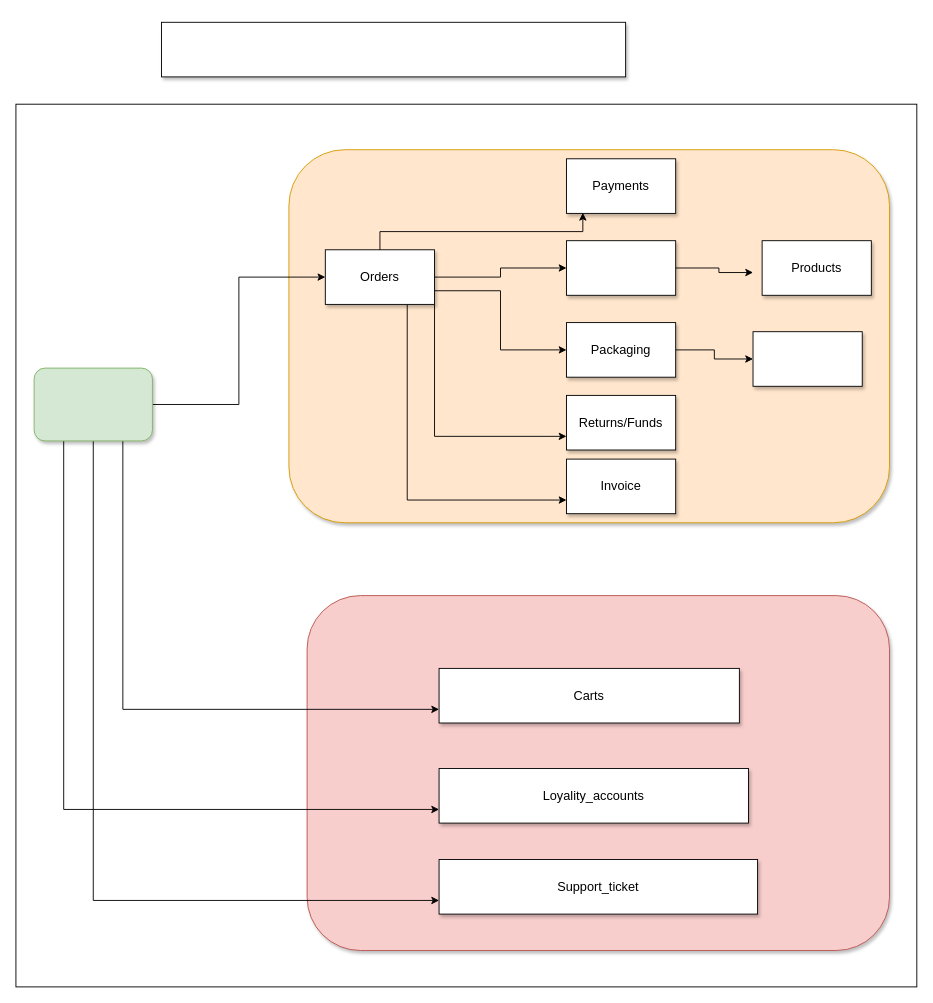
Some shapes in this 933 by 1003 pixel diagram are drawn without their labels. Here are the shapes that lost their labels. From the top down, the centre of each, then its label:
[394,50]: Ecommerce Website
[621,269]: Order_item
[808,360]: Warehouse
[94,405]: Customers
